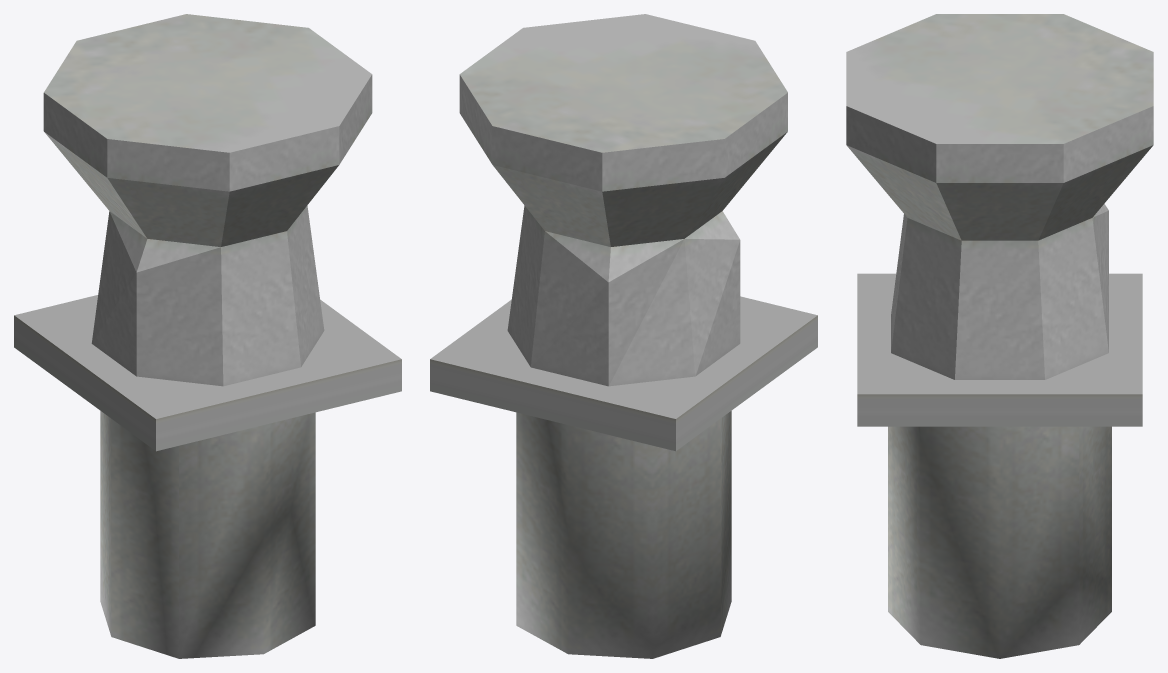
The model's file is general_obj_bigtower07_lod_01.fbx.
3 renders of one model, left to right at view 1: azimuth 30°, elevation 25°; view 2: azimuth 150°, elevation 25°; view 3: azimuth 270°, elevation 25°, orthographic.
Parts seen in each view (by area): view 1: Sphere01; view 2: Sphere01; view 3: Sphere01.
Boxes of the visible parts, x1=… form: Sphere01: x1=14, y1=14, x2=401, y2=658; Sphere01: x1=430, y1=14, x2=817, y2=658; Sphere01: x1=846, y1=14, x2=1153, y2=658.
Bounding box in the file's own units: 4.31 × 8.24 × 4.31.
